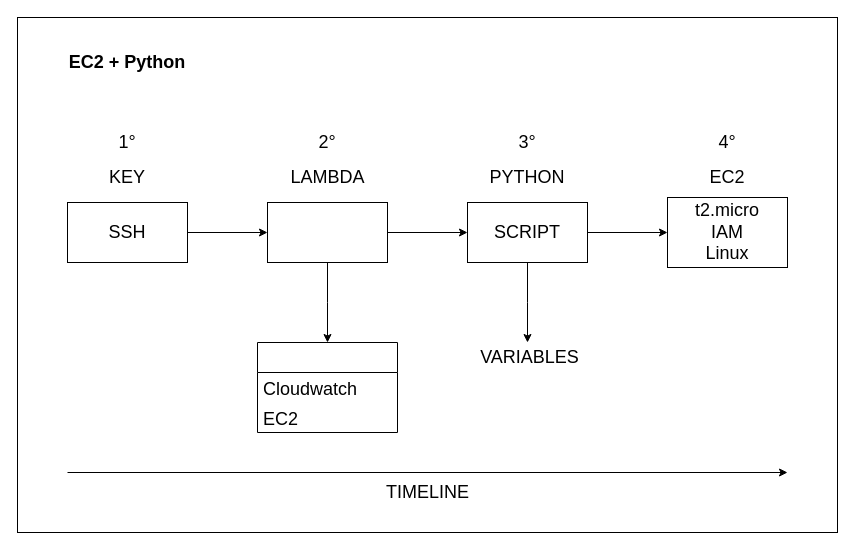
The diagram is 855 pixels wide and 550 high, and some of its shapes have lost their labels. The box of each missing label's shape, as (x1, y1, x2, y2) in pixels:
FUNÇÃO: (266, 202, 388, 262)
IAM ROLE: (256, 342, 398, 432)
